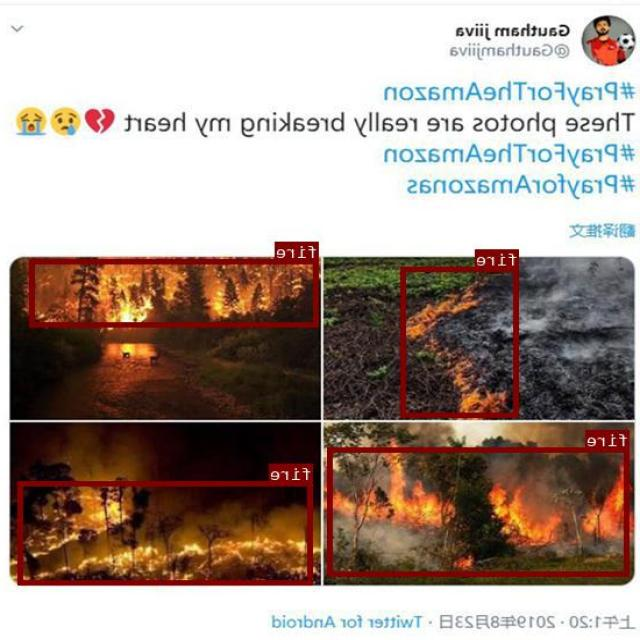fire: (328, 447, 630, 575), (19, 480, 313, 584), (31, 258, 319, 326), (402, 266, 520, 417)
